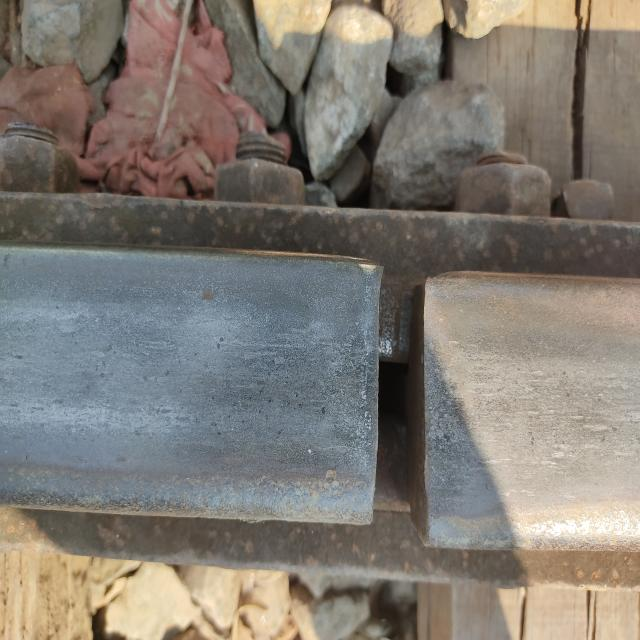Faults: (357, 252, 451, 552)
